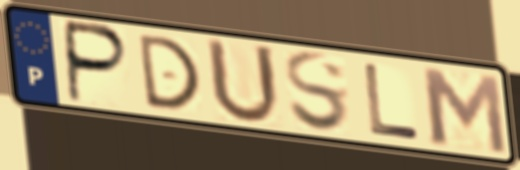D: (134, 32, 204, 113)
L: (361, 60, 422, 143)
M: (416, 64, 511, 158)
P: (65, 18, 133, 107)
S: (281, 49, 354, 137)
U: (203, 34, 284, 128)
